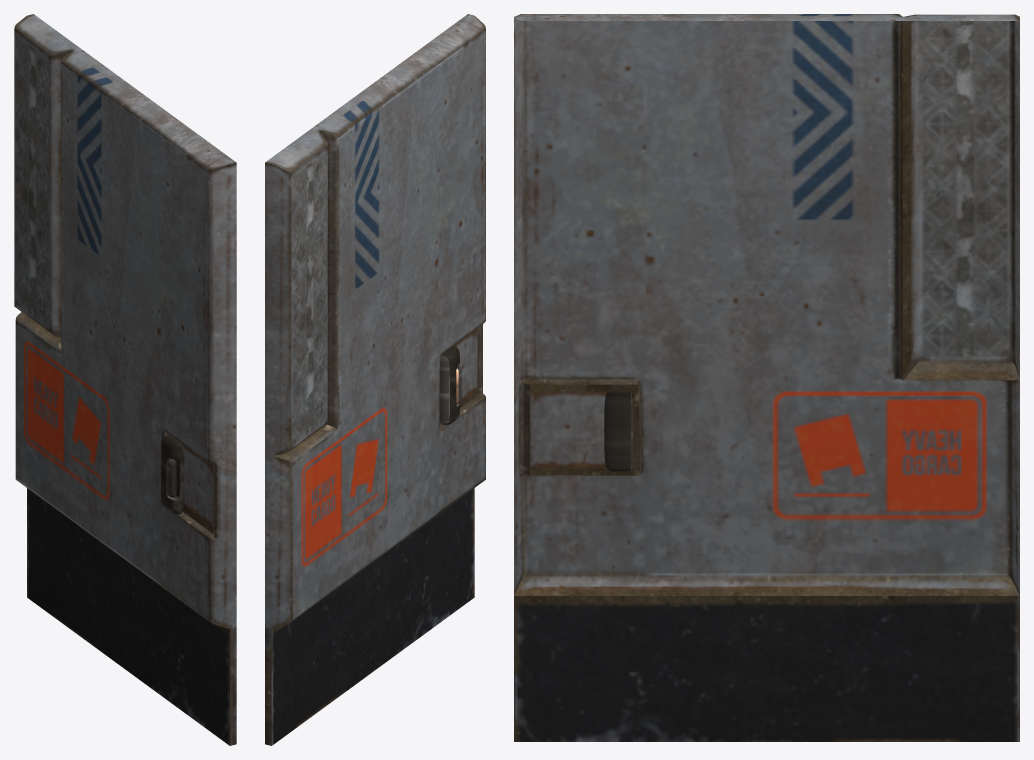
The model's file is SM_Doors_LP_pCube132.fbx.
3 views of the same model, side by side, from view 1: azimuth 30°, elevation 25°; view 2: azimuth 150°, elevation 25°; view 3: azimuth 270°, elevation 25° (orthographic). The views are drawn at different scales.
Visible parts, largest first — view 1: SM_Doors_LP_pCube132_LOD0; view 2: SM_Doors_LP_pCube132_LOD0; view 3: SM_Doors_LP_pCube132_LOD0.
Part boxes in pixels (box(x1,y1,x2,y2)): SM_Doors_LP_pCube132_LOD0: box(14, 14, 236, 745); SM_Doors_LP_pCube132_LOD0: box(265, 14, 485, 745); SM_Doors_LP_pCube132_LOD0: box(514, 14, 1019, 741).
Size of the model in its own units: 10.45 by 120 by 189.
2 materials, 2 textured.
